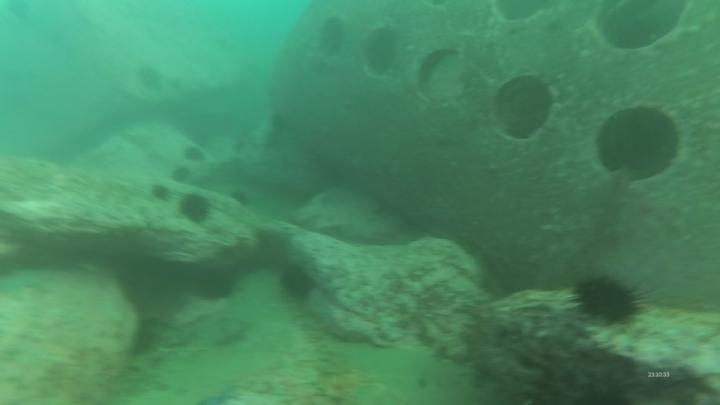echinus: (570, 271, 647, 328), (190, 265, 240, 305), (251, 226, 295, 270), (276, 262, 316, 303), (176, 191, 214, 226), (134, 62, 167, 96), (168, 163, 194, 187), (148, 181, 173, 205), (181, 143, 207, 165), (231, 192, 249, 207)
starfish: (193, 381, 242, 405)
